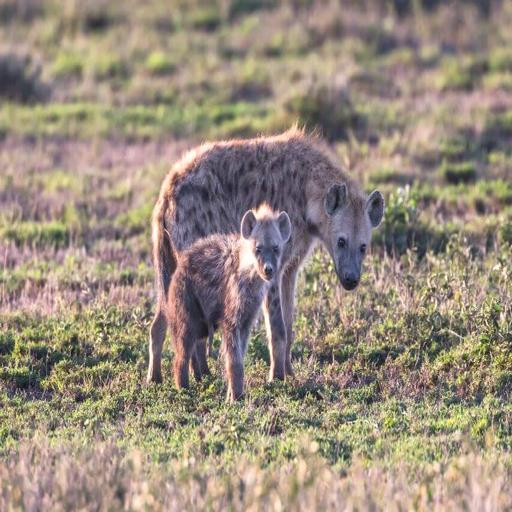hyenas: (36, 126, 396, 415)
